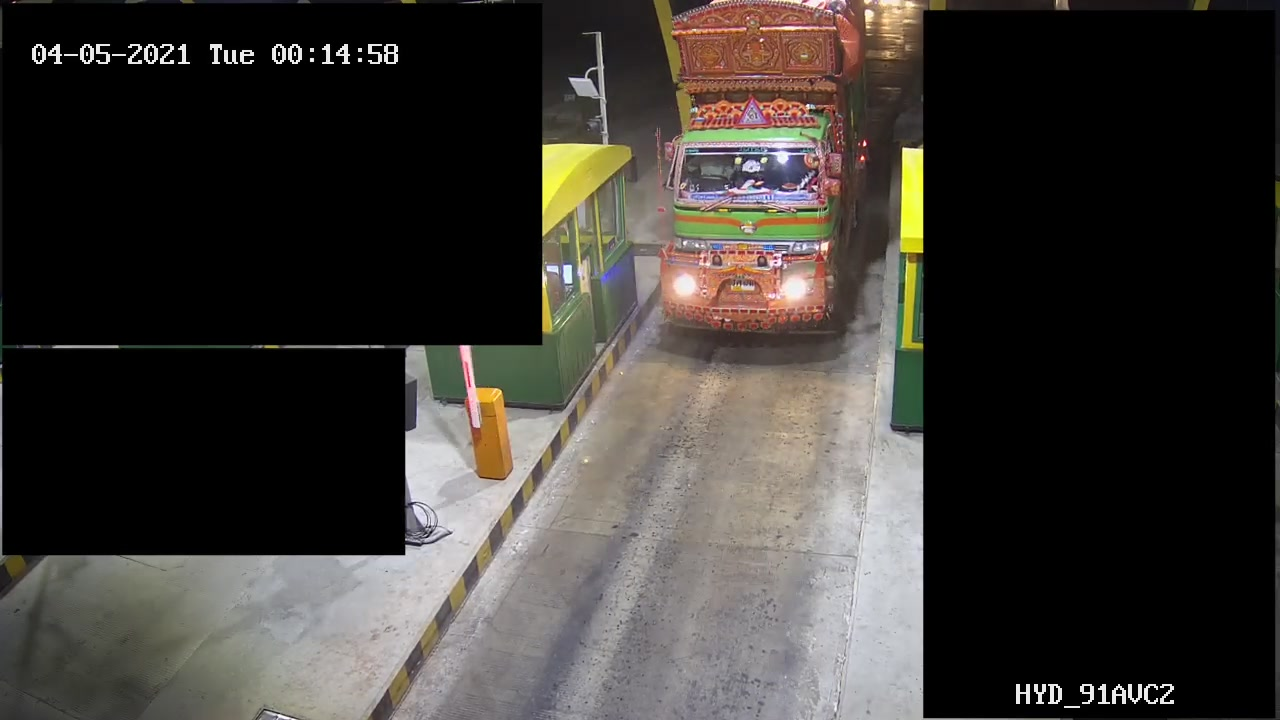F5: (655, 1, 868, 332)
